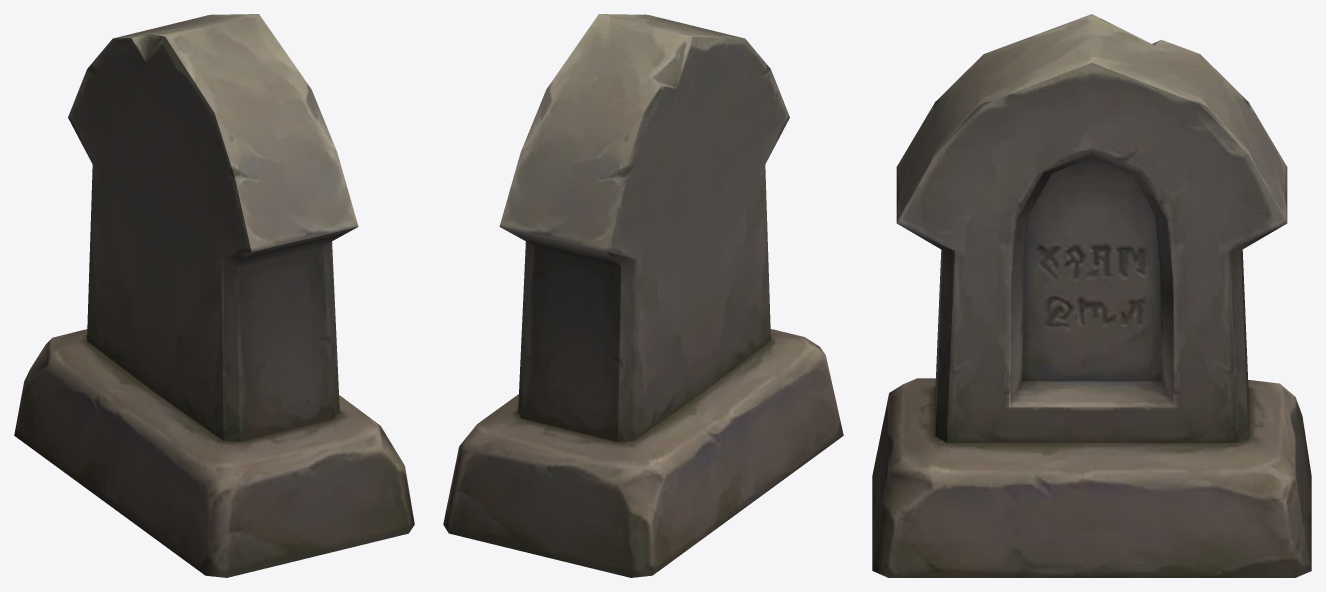
3 renders of one model, left to right at view 1: azimuth 30°, elevation 25°; view 2: azimuth 150°, elevation 25°; view 3: azimuth 270°, elevation 25°, orthographic. The views are drawn at different scales.
Bounding box in the file's own units: 0.6272 × 1.3 × 1.07.
1 material, 1 textured.
